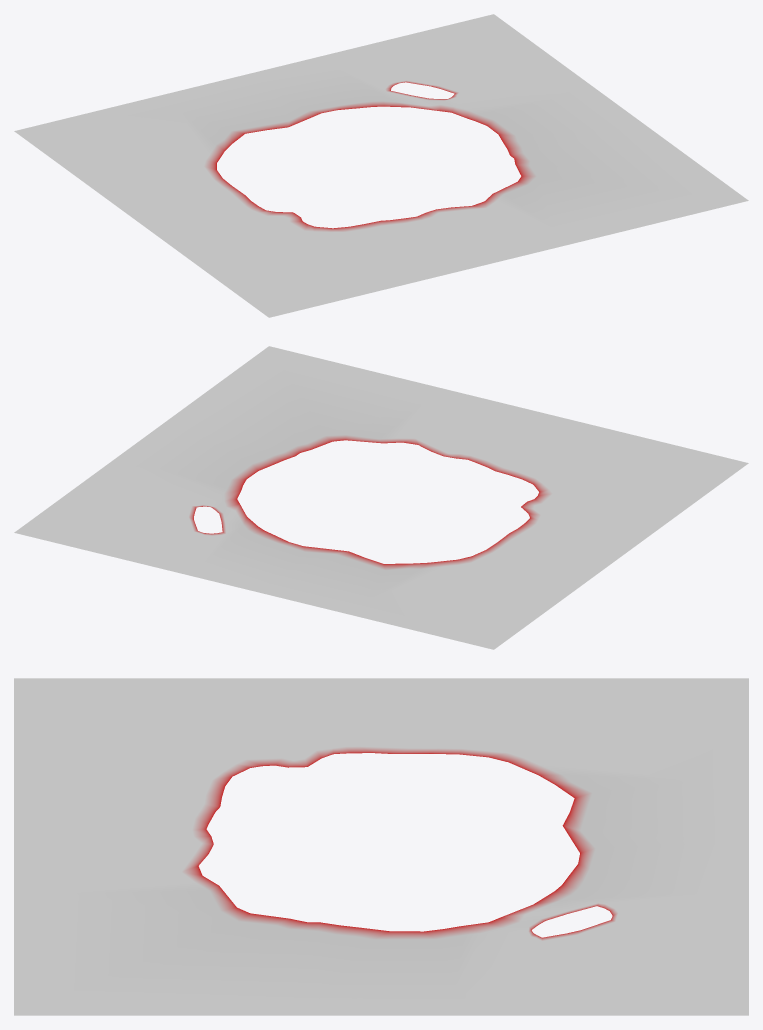
File: Map_20026_water.FBX
3 renders of one model, top to bottom at view 1: azimuth 30°, elevation 25°; view 2: azimuth 150°, elevation 25°; view 3: azimuth 270°, elevation 25°, orthographic. The views are drawn at different scales.
Parts seen in each view (by area): view 1: Map_20026_water; view 2: Map_20026_water; view 3: Map_20026_water.
Boxes of the visible parts, left/top/right/bottom form: Map_20026_water: left=14, top=14, right=748, bottom=317; Map_20026_water: left=14, top=346, right=748, bottom=649; Map_20026_water: left=14, top=678, right=748, bottom=1015.
Size of the model in its own units: 207 by 0.00108 by 191.
